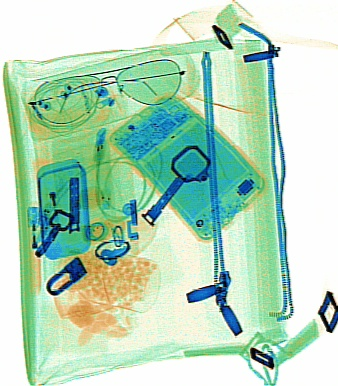lighter: (29, 151, 62, 235), (21, 203, 42, 292)
